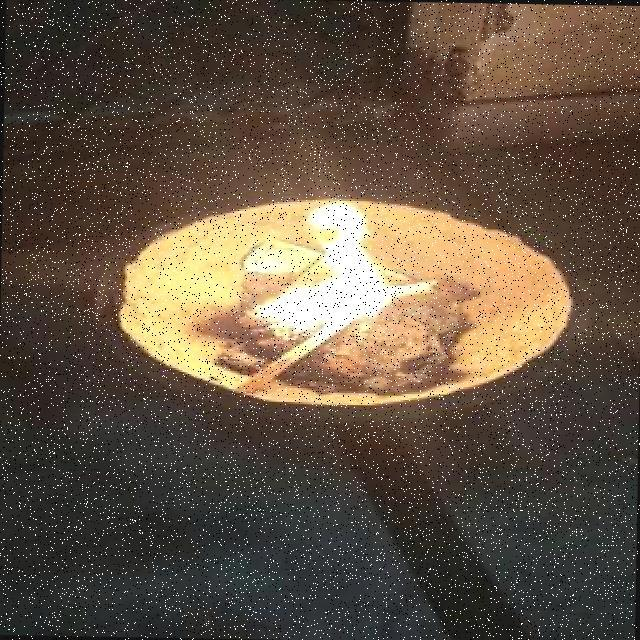Fire: (244, 199, 404, 342)
